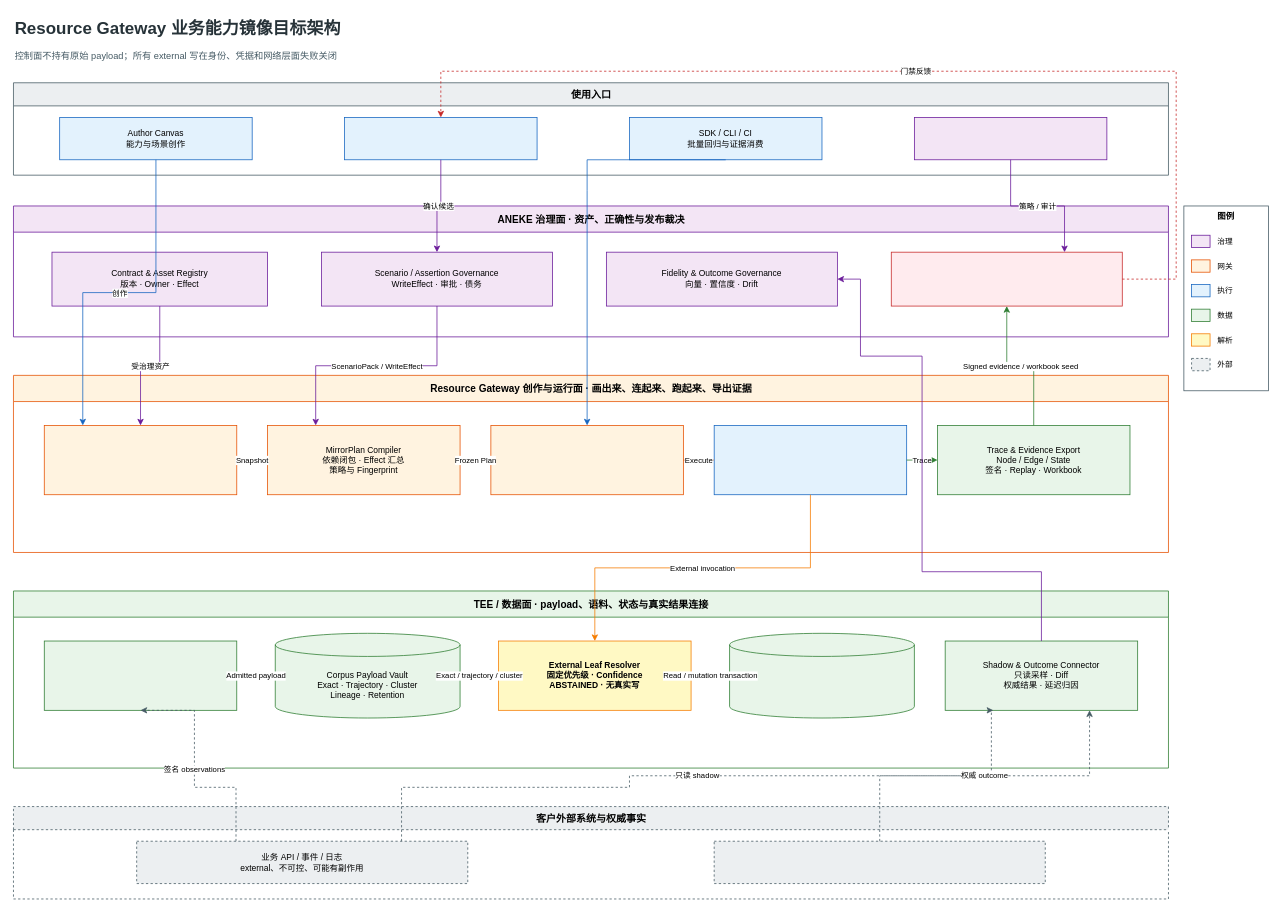
The diagram is 1282 pixels wide and 912 high, and some of its shapes have lost their labels. Here are the shapes that lost their labels. From the top down, the centre of each, then its label:
At (x=440, y=138): "业务工作台 看 · 调 · 确认".
At (x=1010, y=138): "SRE / 安全 / 审计 能力探针与运行治理".
At (x=1006, y=278): "Workbook & Publish Gate 证据绑定 · 阻断 · Deep Link".
At (x=140, y=460): "Capability Projection Resource / Operator / Graph → immutable Snapshot".
At (x=586, y=460): "Rehearsal Orchestrator ScenarioPack · Job 确定性 Execution Services".
At (x=810, y=460): "BLOGE DAG Runtime composed 真实执行 external leaf 拦截".
At (x=140, y=675): "Observation Admission 签名 · 脱敏 · 分类 Purpose · Quarantine".
At (x=821, y=675): "Session State World Serializable Mutation COW · Journal · Checkpoint".
At (x=879, y=862): "权威业务结果 结算、闭环、投诉与客户结果".
